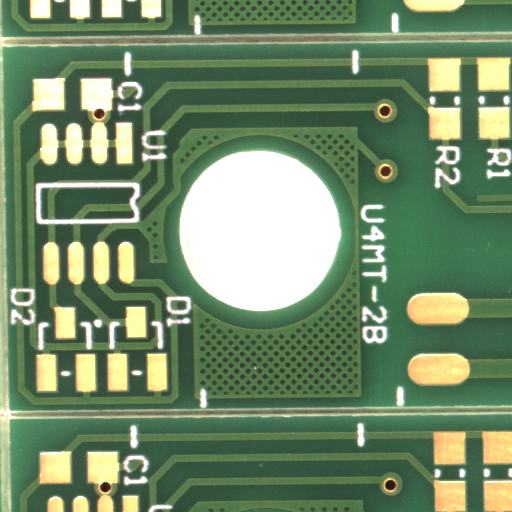Spurious_copper: (493, 197, 512, 207)
